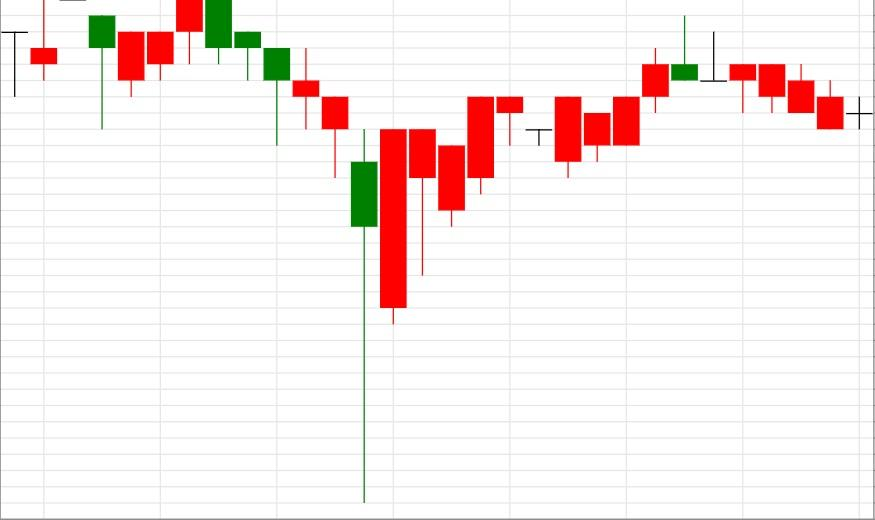bearish_engulfing_fall: (88, 0, 233, 129)
shooting_star_fall: (554, 15, 698, 177)
